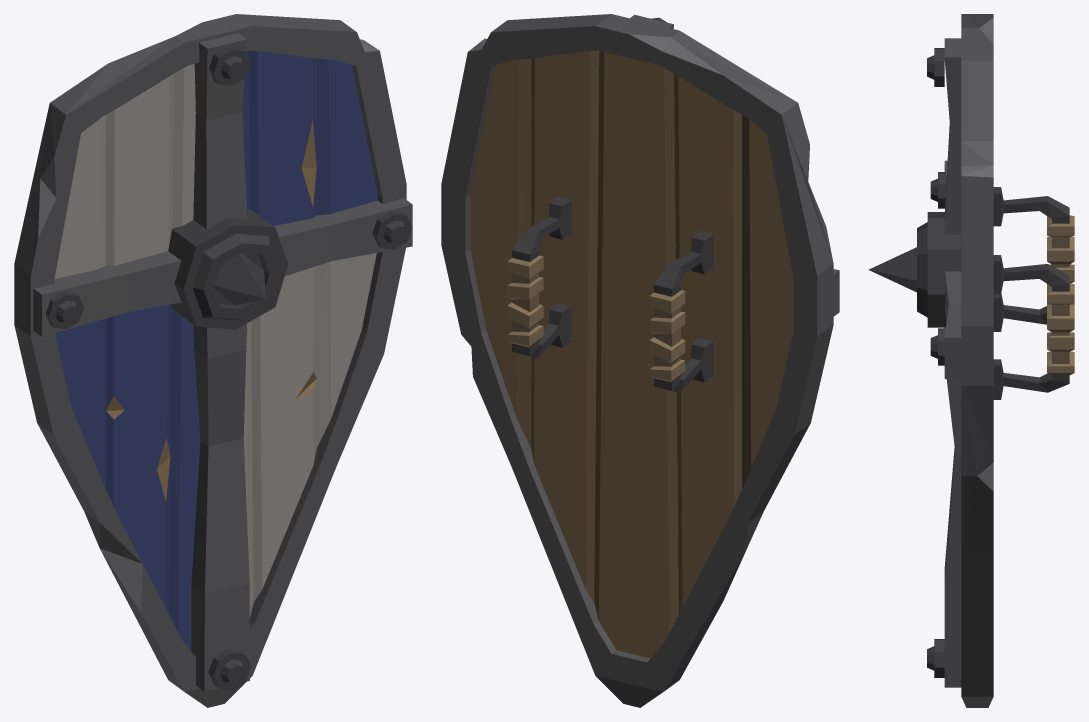
Rendered from SM_Wep_Sheild_02.gltf.
The picture shows the model from 3 angles, left to right: view 1: azimuth 30°, elevation 25°; view 2: azimuth 150°, elevation 25°; view 3: azimuth 270°, elevation 25°; orthographic projection. The views are drawn at different scales.
Visible parts, largest first — view 1: SM_Wep_Sheild_02; view 2: SM_Wep_Sheild_02; view 3: SM_Wep_Sheild_02.
Part boxes in pixels (x1,y1,x2,y2): SM_Wep_Sheild_02: [14, 14, 412, 707]; SM_Wep_Sheild_02: [441, 14, 839, 707]; SM_Wep_Sheild_02: [868, 14, 1074, 707].
Size of the model in its own units: 0.4936 by 0.845 by 0.2396.
1 material, 1 textured.
